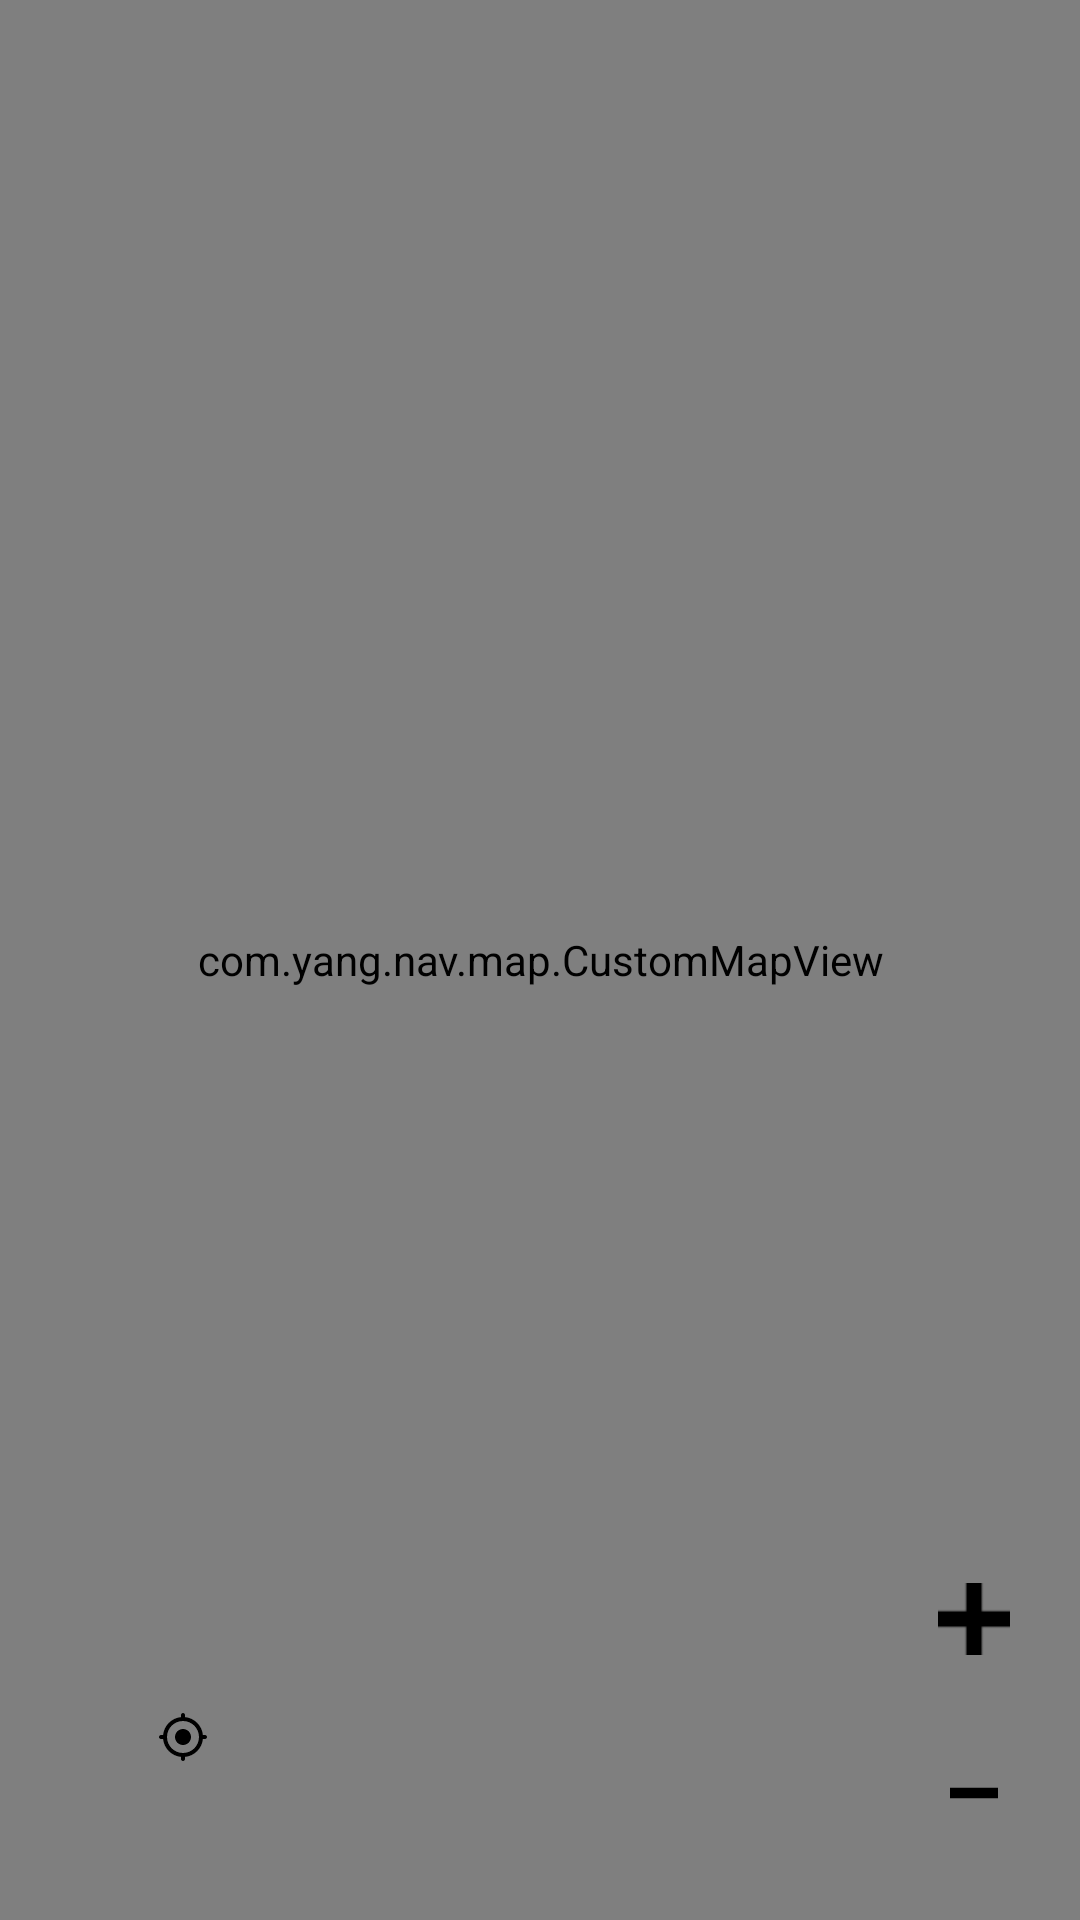

Point at icon controls on the screen. Image size 1080*1920, points as (x=x, y=y).
qu direction location: (x=183, y=1737)
放大: (x=974, y=1619)
缩小: (x=974, y=1793)
